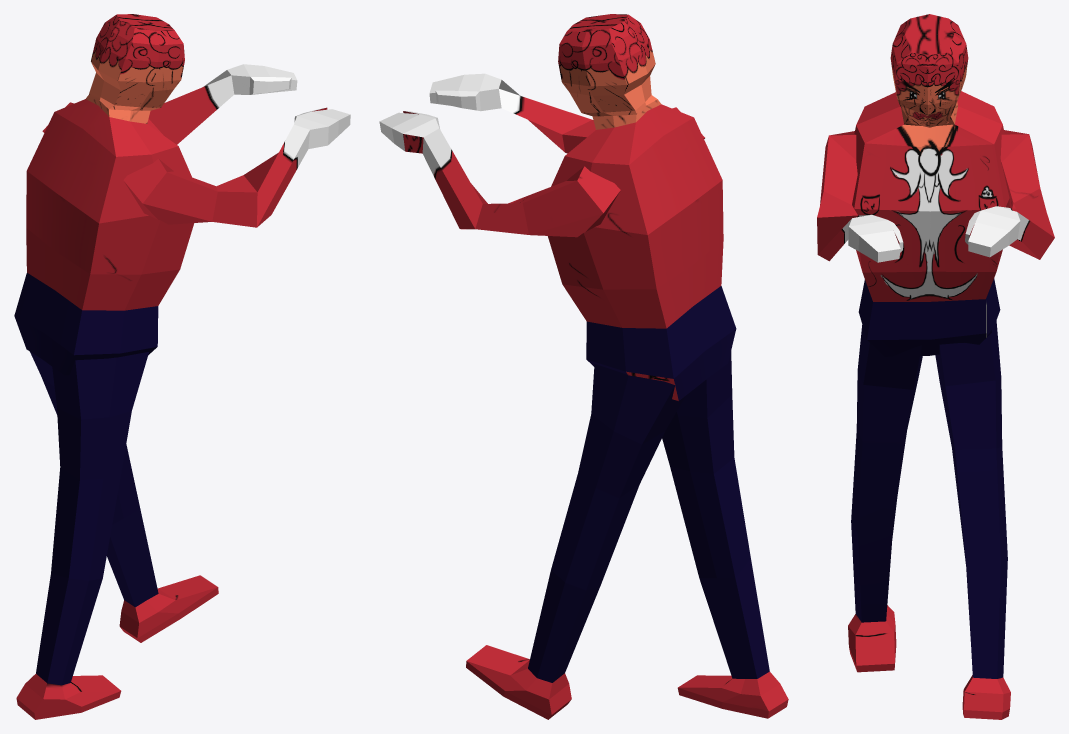
File: Chenille.fbx
3 views of the same model, side by side, from view 1: azimuth 30°, elevation 25°; view 2: azimuth 150°, elevation 25°; view 3: azimuth 270°, elevation 25° (orthographic). The views are drawn at different scales.
Visible parts, largest first — view 1: Cube.001; view 2: Cube.001; view 3: Cube.001.
Part boxes in pixels (<box>): Cube.001: <box>14,14,350,719</box>; Cube.001: <box>379,14,788,719</box>; Cube.001: <box>817,14,1054,719</box>.
Bounding box in the file's own units: 229 × 433 × 137.
